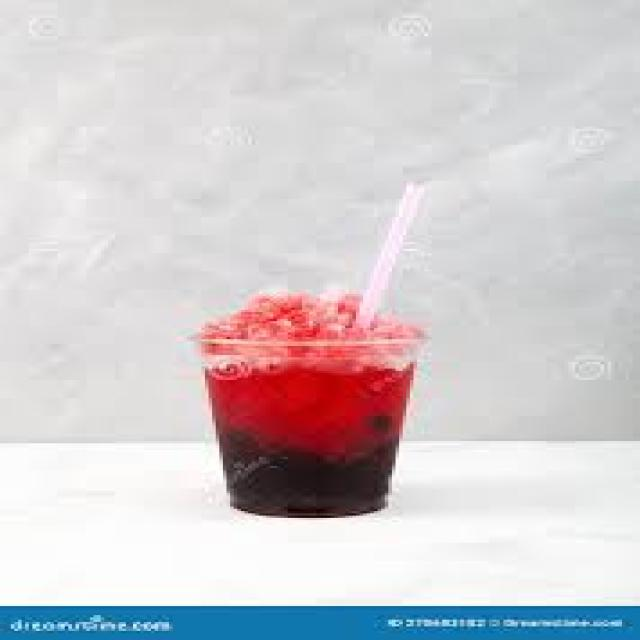bottle: (204, 340, 419, 516)
